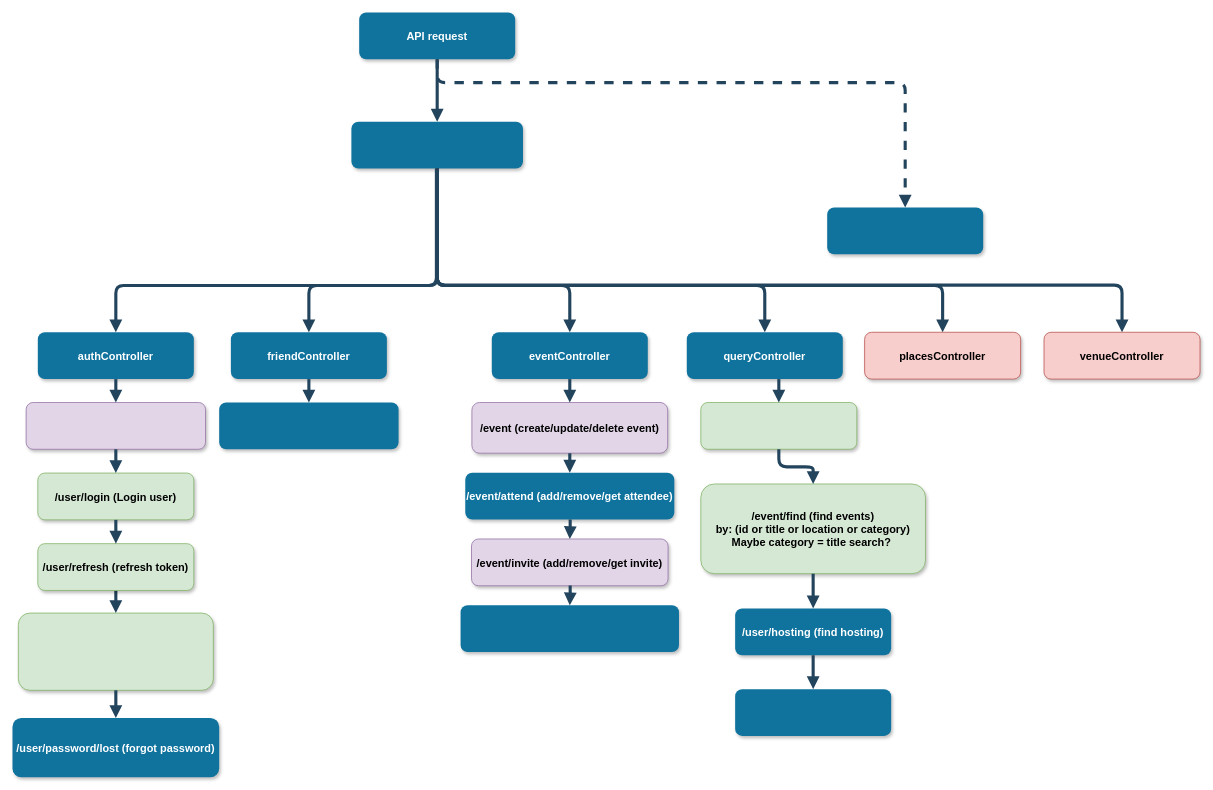
This 1213x790 diagram has some shape labels left out. Each missing label, with the centre of its shape:
/event/pictures (add/remove/get picture): pixel 570 629
/friends (add/delete friend): pixel 309 426
/user (Create/update/delete user): pixel 116 427
/user/find (find user) by: (id or name): pixel 779 427
/user/hosting (find attending): pixel 813 713
/user/password (change password): pixel 116 652
auth validation (jwt): pixel 905 231
Router: pixel 437 146
